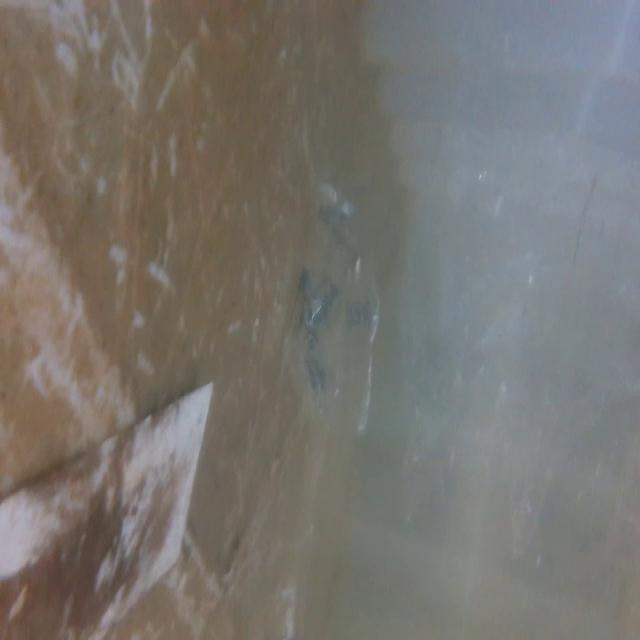metal: (0, 380, 215, 640)
plastic bags: (418, 180, 640, 540), (281, 190, 391, 440)
